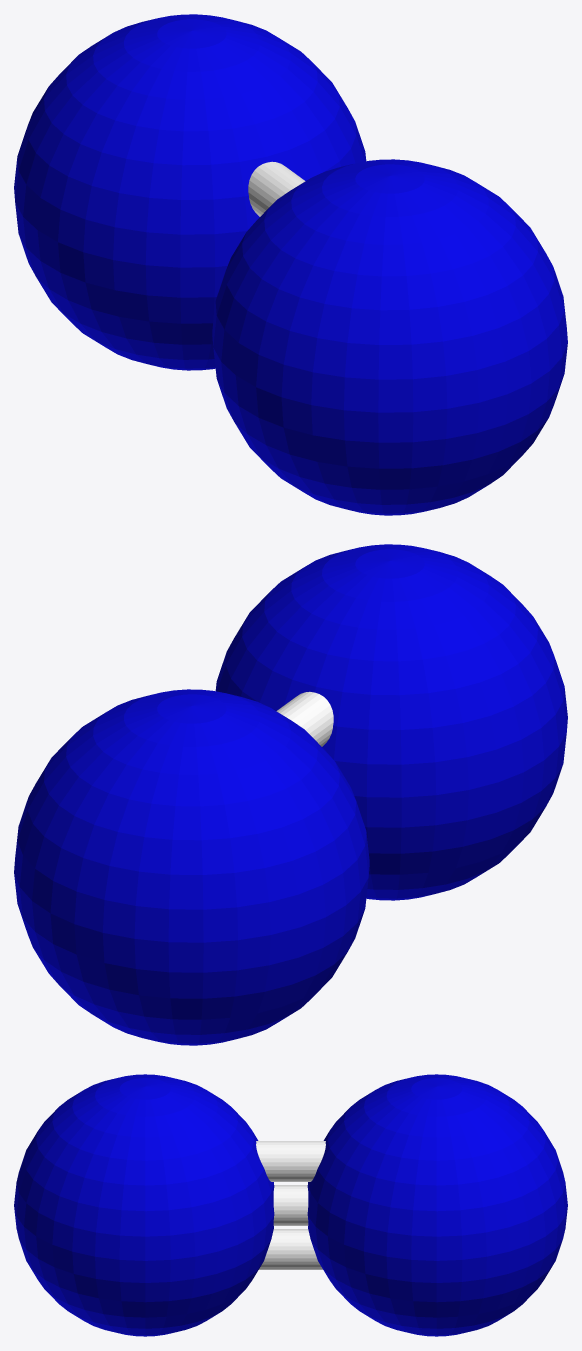
The picture shows the model from 3 angles, top to bottom: view 1: azimuth 30°, elevation 25°; view 2: azimuth 150°, elevation 25°; view 3: azimuth 270°, elevation 25°; orthographic projection. The views are drawn at different scales.
Visible parts, largest first — view 1: 구체.001; view 2: 구체.001; view 3: 구체.001.
Boxes of the visible parts, x1=… form: 구체.001: x1=14, y1=14, x2=567, y2=515; 구체.001: x1=14, y1=544, x2=567, y2=1045; 구체.001: x1=14, y1=1074, x2=567, y2=1336.
Bounding box in the file's own units: 162 × 162 × 342.
